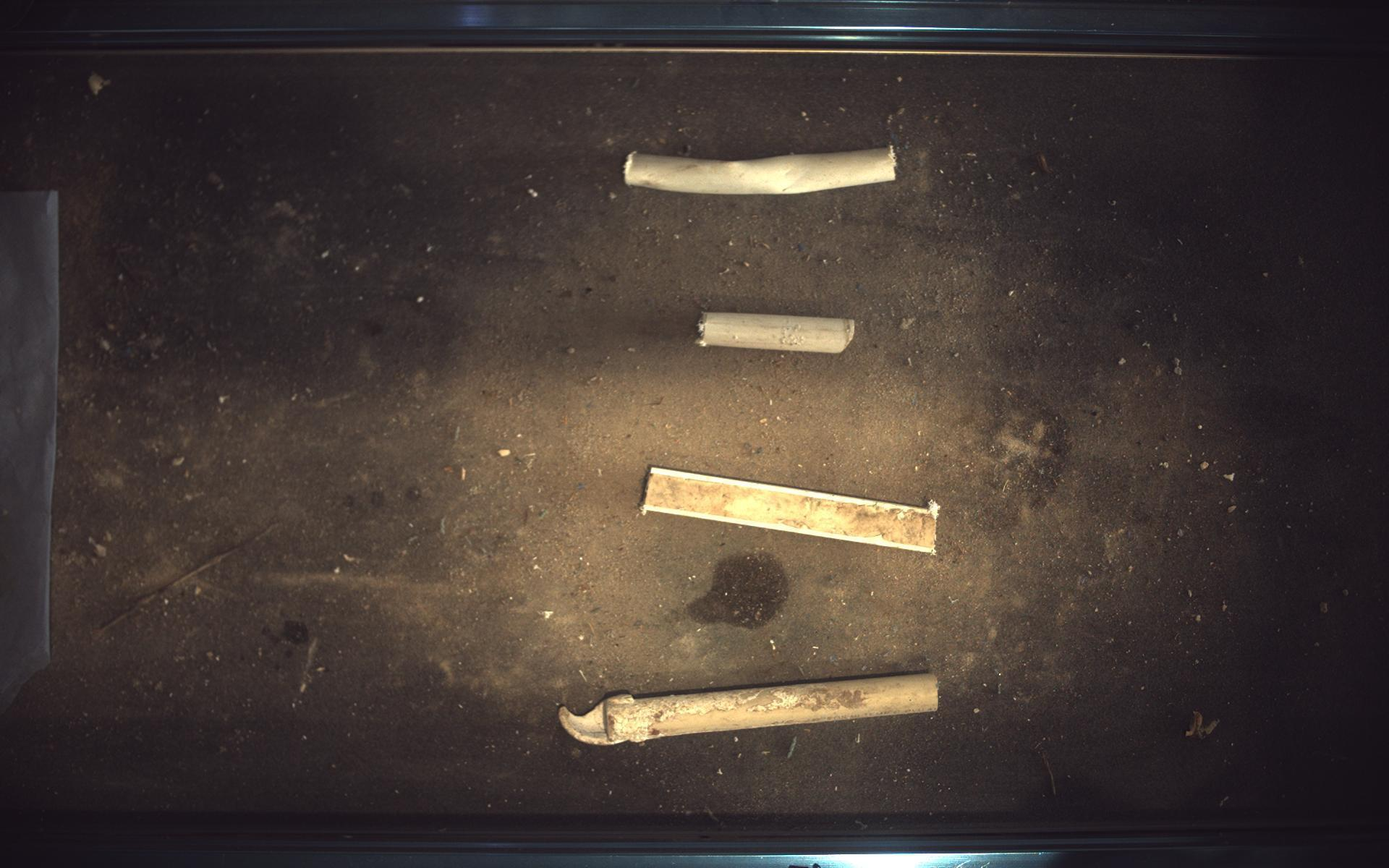pipes: (625, 147, 898, 193)
plastic: (642, 467, 941, 554)
